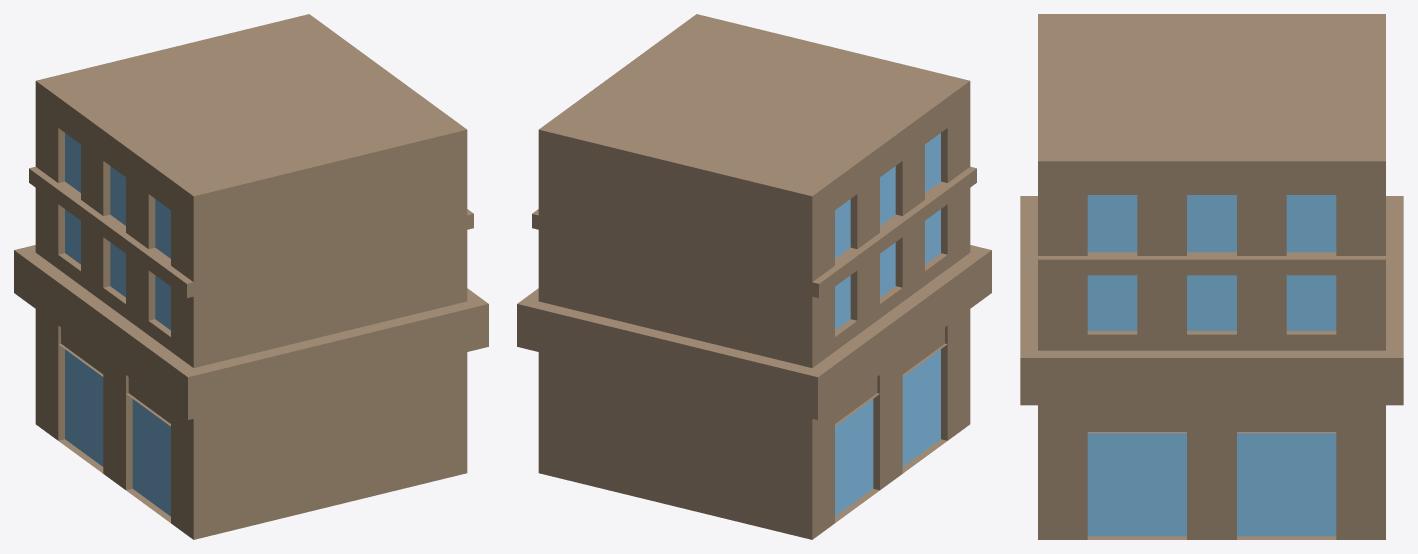
Rendered from building1.glb.
3 renders of one model, left to right at view 1: azimuth 30°, elevation 25°; view 2: azimuth 150°, elevation 25°; view 3: azimuth 270°, elevation 25°, orthographic. The views are drawn at different scales.
Parts seen in each view (by area): view 1: Cube; view 2: Cube; view 3: Cube.
Part boxes in pixels (bbox=[...]): Cube: bbox=[14, 14, 488, 539]; Cube: bbox=[517, 14, 991, 539]; Cube: bbox=[1020, 14, 1403, 539].
Bounding box in the file's own units: 11 × 12 × 11.
